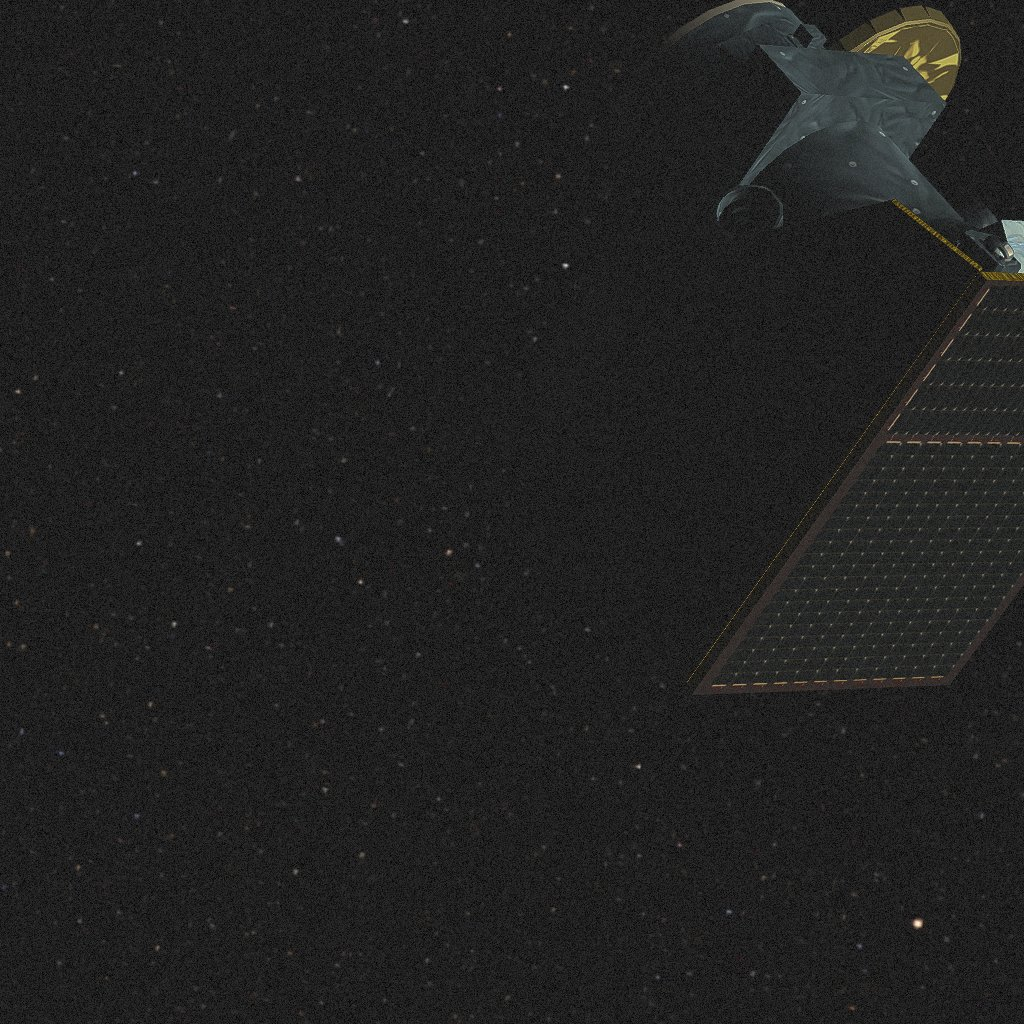cheops: (457, 0, 1024, 695)
